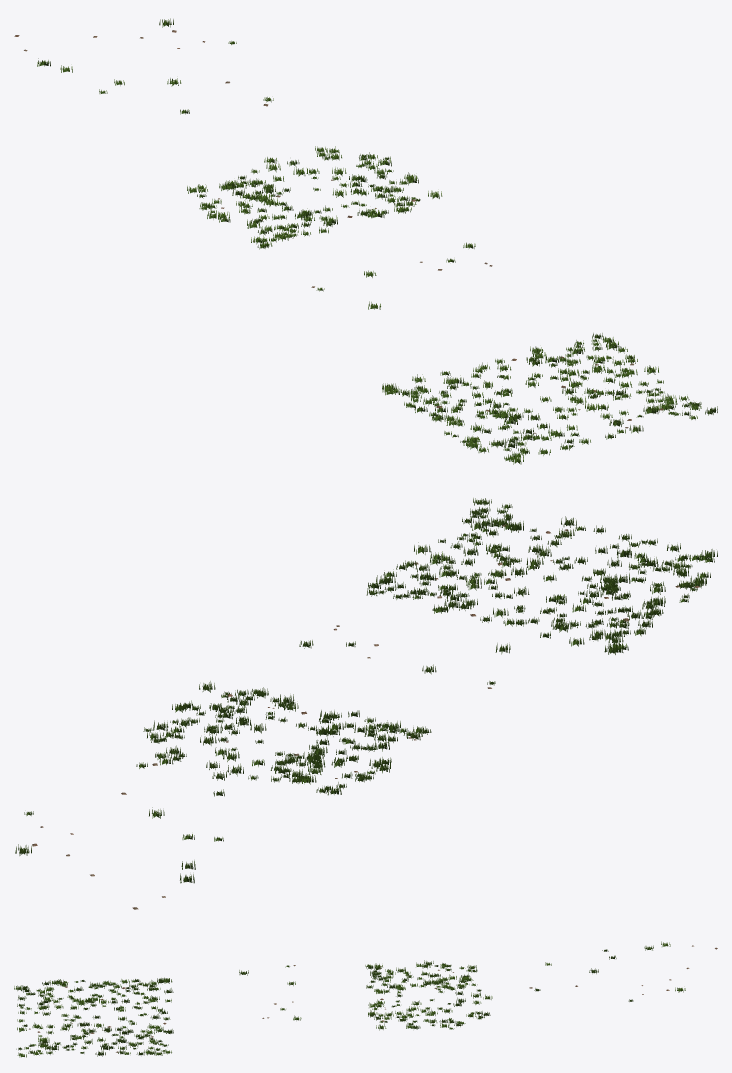
The model's file is scatter_detail.glb.
3 views of the same model, one above another, from view 1: azimuth 30°, elevation 25°; view 2: azimuth 150°, elevation 25°; view 3: azimuth 270°, elevation 25° (orthographic). The views are drawn at different scales.
Parts seen in each view (by area): view 1: top5, top6; view 2: top5, top6; view 3: top5, top6, top4.
Boxes of the visible parts, x1,y1,x2,y2 form: top5: (382, 333, 717, 464); top6: (187, 146, 442, 249); top5: (366, 498, 717, 654); top6: (143, 681, 431, 795); top5: (14, 977, 173, 1057); top6: (365, 960, 492, 1030); top4: (589, 941, 717, 1001).
Bounding box in the file's own units: 14.22 × 3.86 × 53.17.
Materials: 2 (2 with a texture image).
